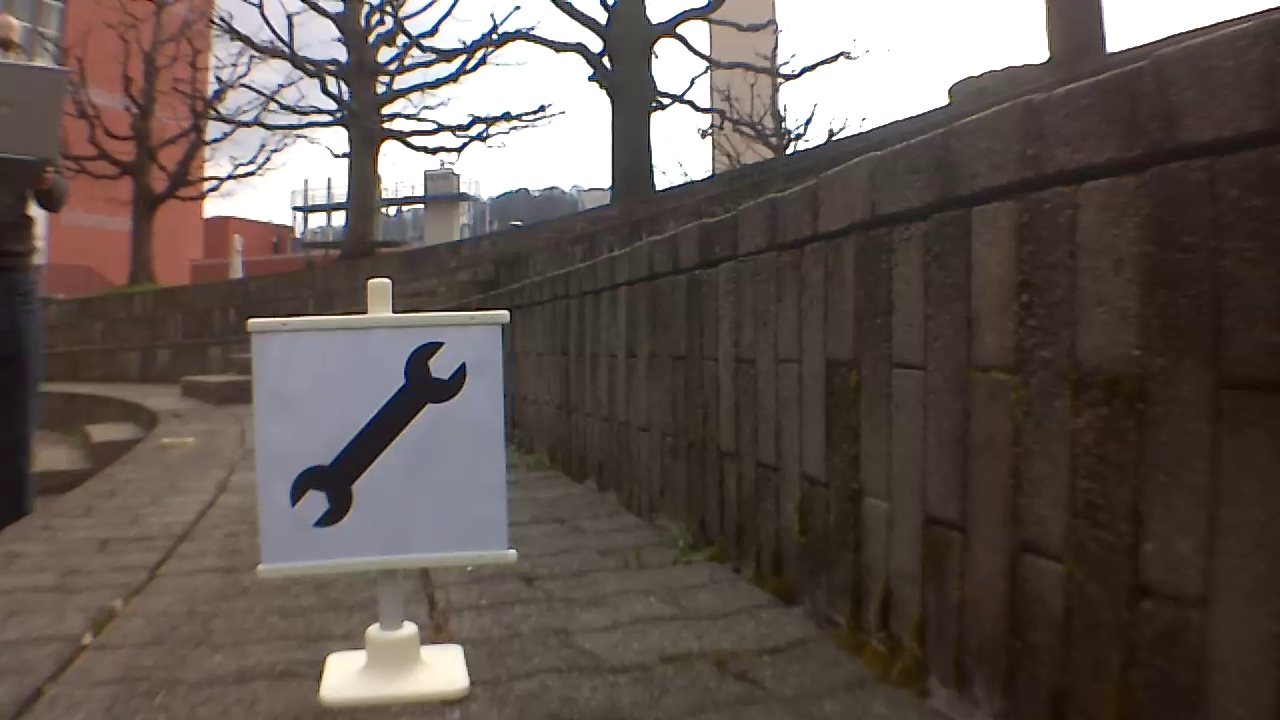wrench: (291, 336, 476, 529)
